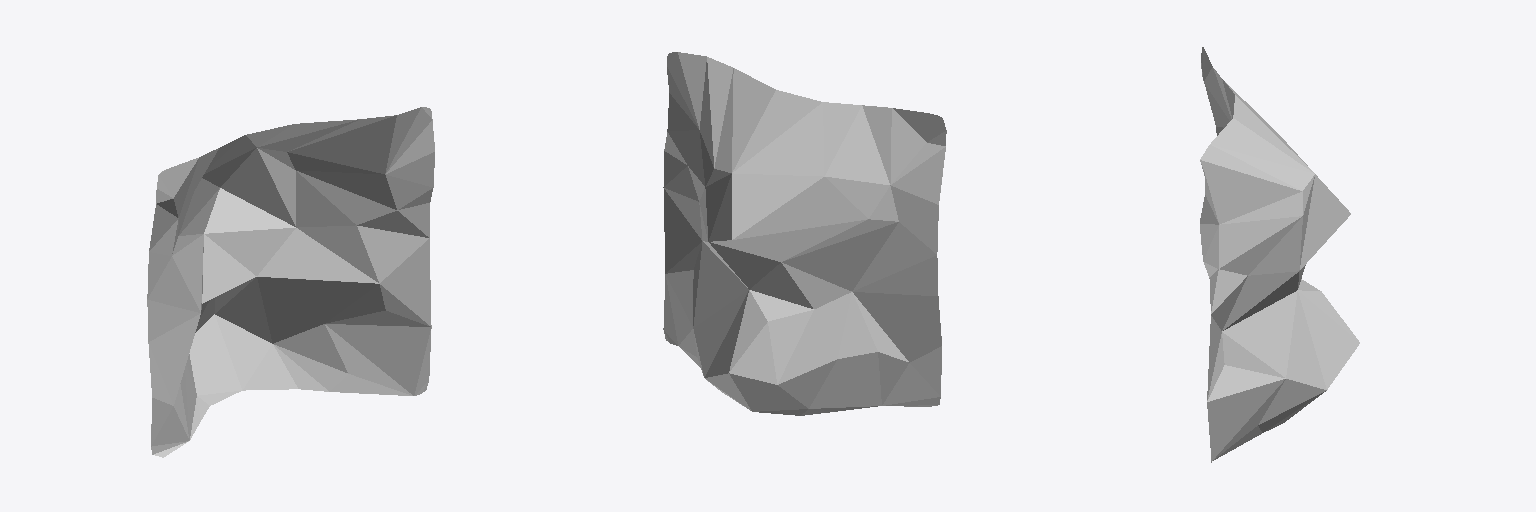
File: rrplane.obj
The picture shows the model from 3 angles: view 1: azimuth 30°, elevation 25°; view 2: azimuth 150°, elevation 25°; view 3: azimuth 270°, elevation 25°; orthographic projection.
Parts seen in each view (by area): view 1: Mesh; view 2: Mesh; view 3: Mesh.
Part boxes in pixels (bbox=[...]): Mesh: bbox=[147, 107, 434, 457]; Mesh: bbox=[663, 52, 946, 415]; Mesh: bbox=[1200, 47, 1359, 462].
Bounding box in the file's own units: 2 × 2 × 1.